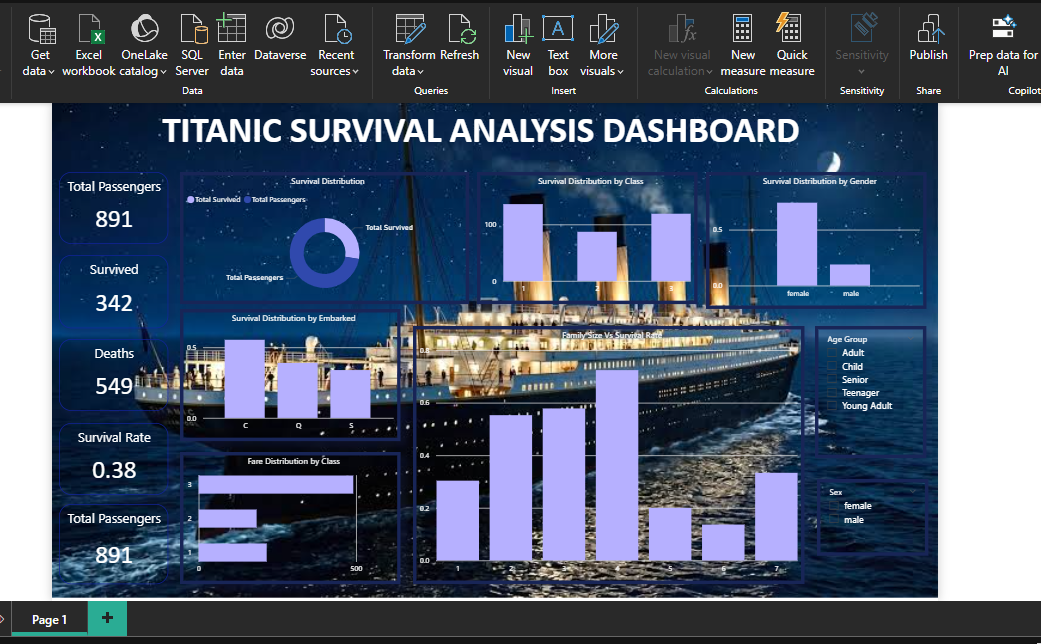

This screenshot's page, from the dashboard's own definition file:
{"tool":"powerbi","page":{"name":"Page 1","canvas":[1280,720],"ordinal":0},"visuals":[{"type":"textbox","box":[130,0,1136,84],"z":0},{"type":"card","title":"Total Passengers","fields":{"Values":["titanic_updated.Total Passengers"]},"box":[10.1,99.1,157.9,104.1],"z":1000},{"type":"card","title":"Deaths","fields":{"Values":["titanic_updated.Total Deaths"]},"box":[10.1,341,157.9,104.1],"z":2000},{"type":"card","title":"Survival Rate","fields":{"Values":["titanic_updated.Survival Rate"]},"box":[10.1,461.9,157.9,104.1],"z":3000},{"type":"card","title":"Survived","fields":{"Values":["titanic_updated.Total Survived"]},"box":[10.1,220.1,157.9,105.8],"z":4000},{"type":"card","title":"Total Passengers","fields":{"Values":["titanic_updated.Total Passengers"]},"box":[10.1,579.5,157.9,115.9],"z":5000},{"type":"donutChart","title":"Survival Distribution","fields":{"Y":["titanic_updated.Total Survived","titanic_updated.Total Passengers"]},"box":[184.8,99.1,418,191],"z":6000},{"type":"clusteredColumnChart","title":"Survival Distribution by Gender","fields":{"Category":["titanic_updated.Sex"],"Y":["titanic_updated.Survival Rate"]},"box":[945.7,99.1,319.2,198.2],"z":7000},{"type":"columnChart","title":"Survival Distribution by Class","fields":{"Y":["titanic_updated.Total Survived"],"Category":["titanic_updated.Pclass"]},"box":[614.8,99.1,319.2,191.5],"z":8000},{"type":"clusteredColumnChart","title":"Survival Distribution by Embarked","fields":{"Category":["titanic_updated.Embarked"],"Y":["titanic_updated.Survival Rate"]},"box":[184.8,297.3,319.2,191.5],"z":9000},{"type":"clusteredBarChart","title":"Fare Distribution by Class","fields":{"Category":["titanic_updated.Pclass"],"Y":["CountNonNull(titanic_updated.Fare)"]},"box":[184.8,503.9,319.2,191.5],"z":10000},{"type":"slicer","title":"Survival Distribution by Gender","fields":{"Values":["titanic_updated.Age Group"]},"box":[1103.6,322.5,161.3,191.5],"z":11000},{"type":"clusteredColumnChart","title":"Family Size Vs Survival Rate","fields":{"Category":["titanic_updated.FamilySize"],"Y":["titanic_updated.Survival Rate"]},"box":[522.4,322.5,566.1,372.9],"z":12000},{"type":"slicer","title":"Survival Distribution by Gender","fields":{"Values":["titanic_updated.Sex"]},"box":[1105.3,544.3,161.3,110.9],"z":13000}]}

Visuals, with their boxes on the page's 1280x720 design canvas (x1, y1, x2, y2). These are canvas units, not pixel positions in the 1041x644 screenshot, which may show the page scaled, cropped or inside an application window:
textbox: region(130, 0, 1266, 84)
"Total Passengers" card: region(10, 99, 168, 203)
"Deaths" card: region(10, 341, 168, 445)
"Survival Rate" card: region(10, 462, 168, 566)
"Survived" card: region(10, 220, 168, 326)
"Total Passengers" card: region(10, 580, 168, 695)
"Survival Distribution" donutChart: region(185, 99, 603, 290)
"Survival Distribution by Gender" clusteredColumnChart: region(946, 99, 1265, 297)
"Survival Distribution by Class" columnChart: region(615, 99, 934, 291)
"Survival Distribution by Embarked" clusteredColumnChart: region(185, 297, 504, 489)
"Fare Distribution by Class" clusteredBarChart: region(185, 504, 504, 695)
"Survival Distribution by Gender" slicer: region(1104, 322, 1265, 514)
"Family Size Vs Survival Rate" clusteredColumnChart: region(522, 322, 1088, 695)
"Survival Distribution by Gender" slicer: region(1105, 544, 1267, 655)
